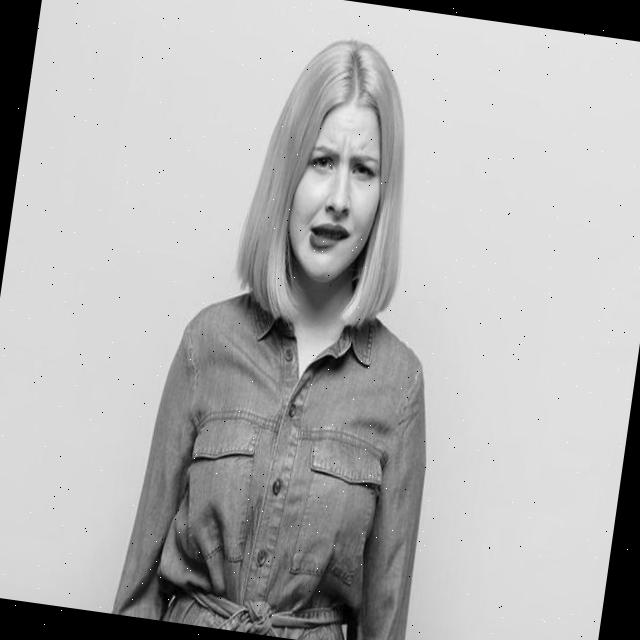Disgust: (280, 98, 392, 290)
